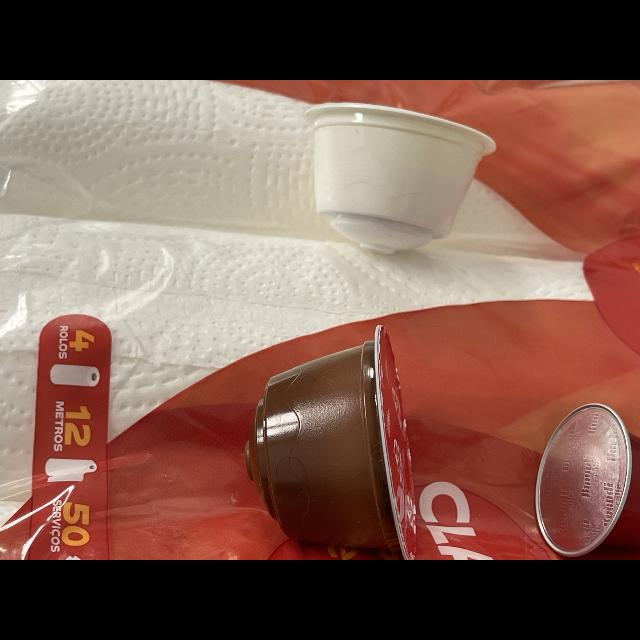intact_capsule: (239, 318, 436, 560), (306, 98, 498, 260), (523, 395, 640, 560)
